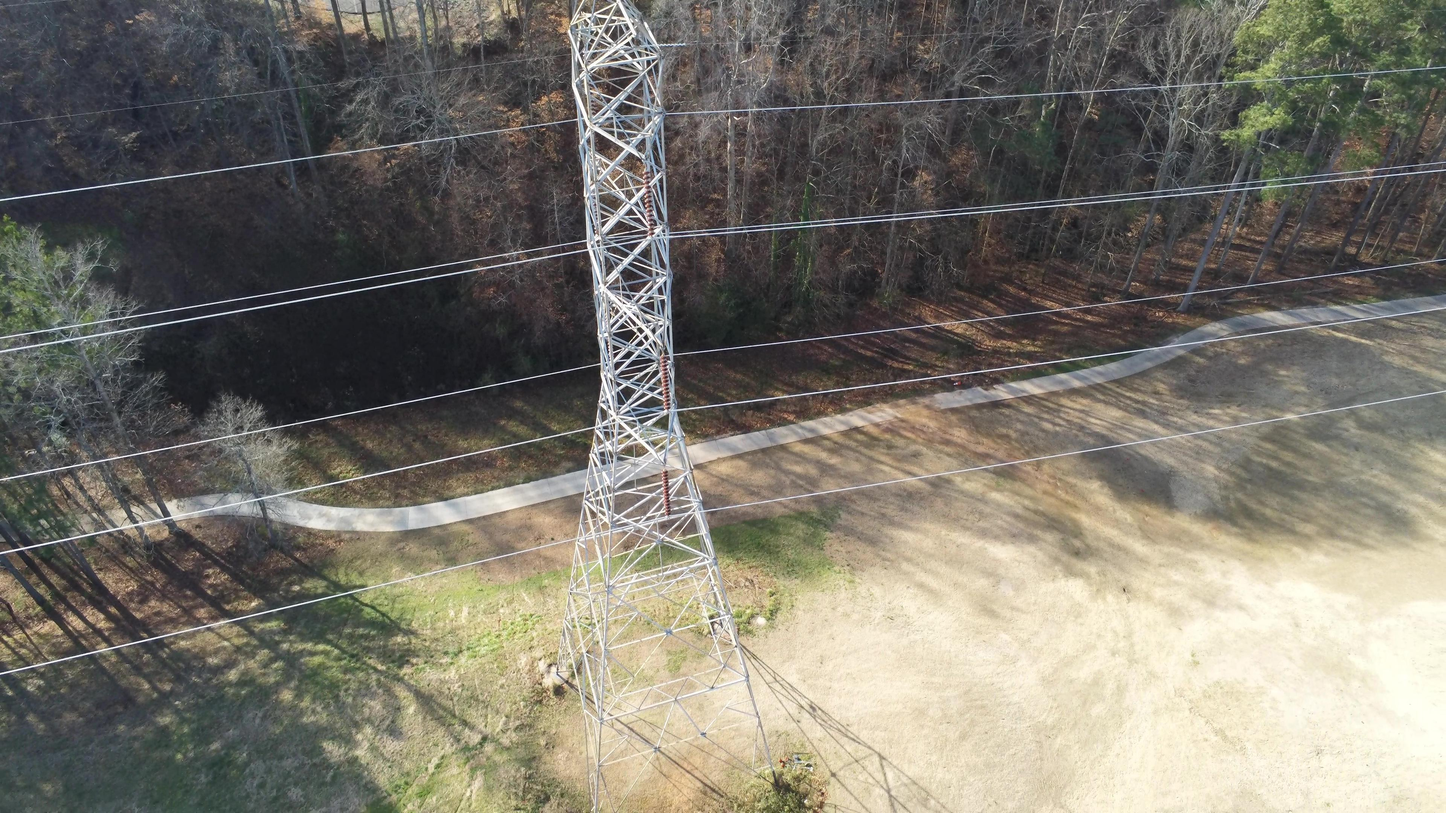power_tower: (556, 0, 779, 813)
